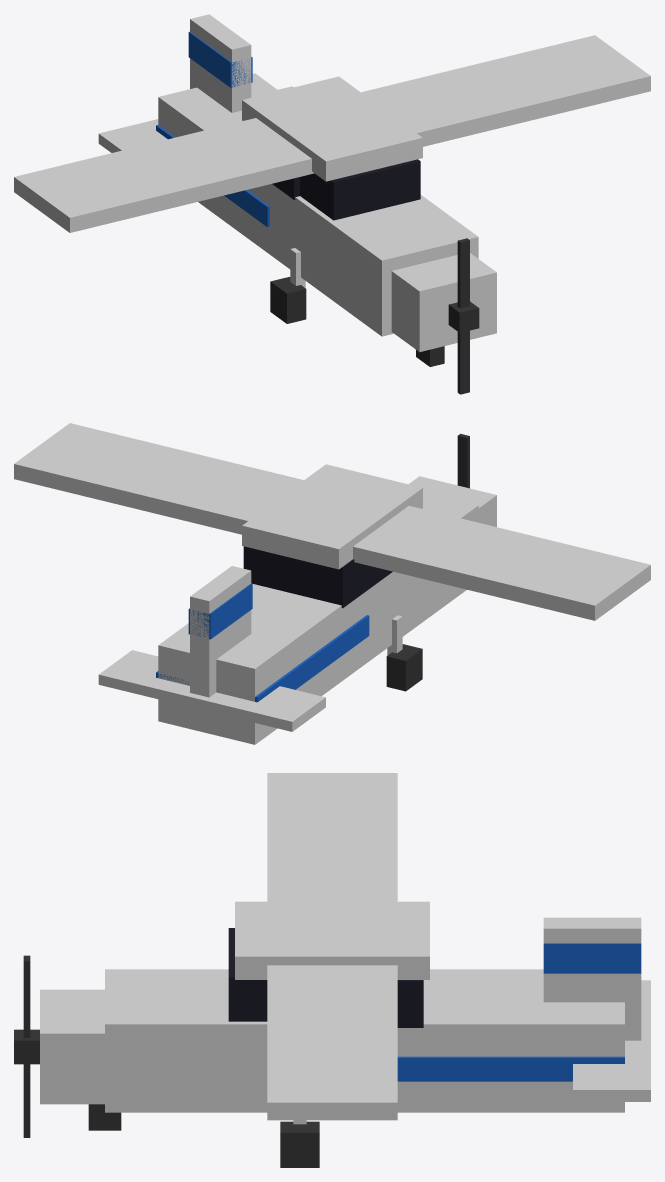
Rendered from small_airplane.obj.
3 views of the same model, one above another, from view 1: azimuth 30°, elevation 25°; view 2: azimuth 150°, elevation 25°; view 3: azimuth 270°, elevation 25° (orthographic). The views are drawn at different scales.
Size of the model in its own units: 12 by 3.6 by 9.8.
